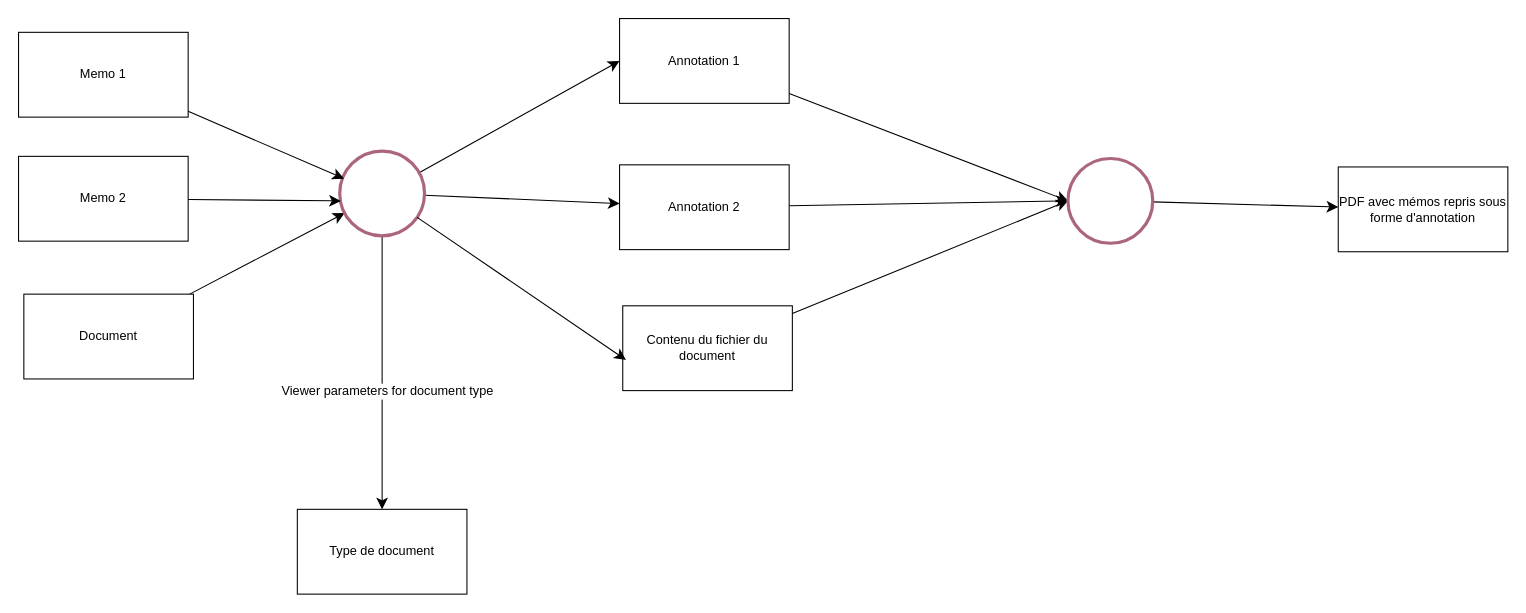
Image size: 1526x613. Some labels were removed from this diagram. Each missing label, with the centre of its shape:
API de rendering: pixel 1110 200
Viewer: pixel 382 193
